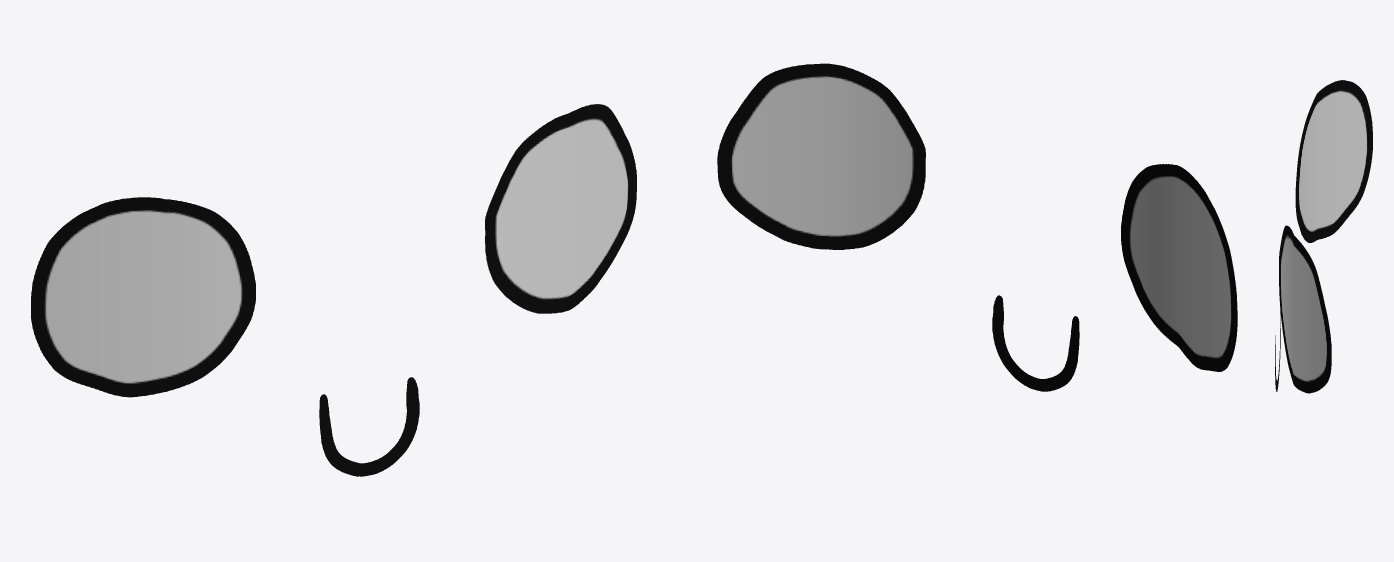
3 renders of one model, left to right at view 1: azimuth 30°, elevation 25°; view 2: azimuth 150°, elevation 25°; view 3: azimuth 270°, elevation 25°, orthographic. The views are drawn at different scales.
Parts seen in each view (by area): view 1: angry00000; view 2: angry00000; view 3: angry00000.
Part boxes in pixels (<box>): angry00000: <box>31,104,636,476</box>; angry00000: <box>717,63,1237,391</box>; angry00000: <box>1275,80,1372,393</box>.
Size of the model in its own units: 152 by 93.47 by 29.78.
Materials: 1 (1 with a texture image).
